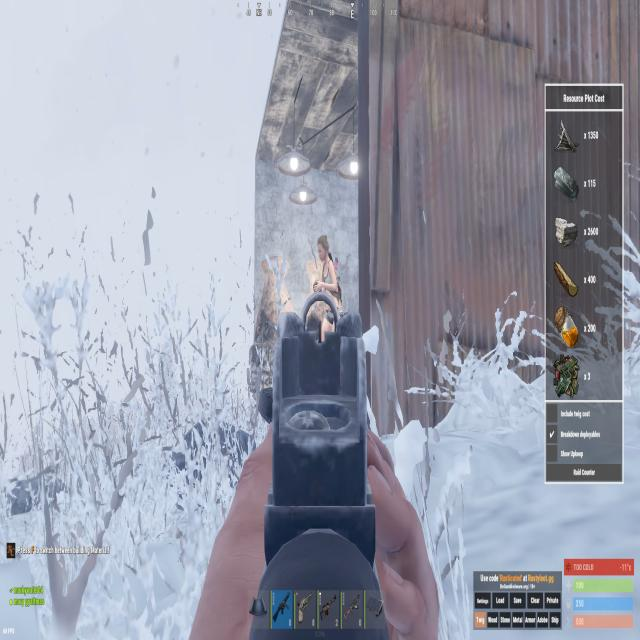Player: (316, 231, 344, 347)
